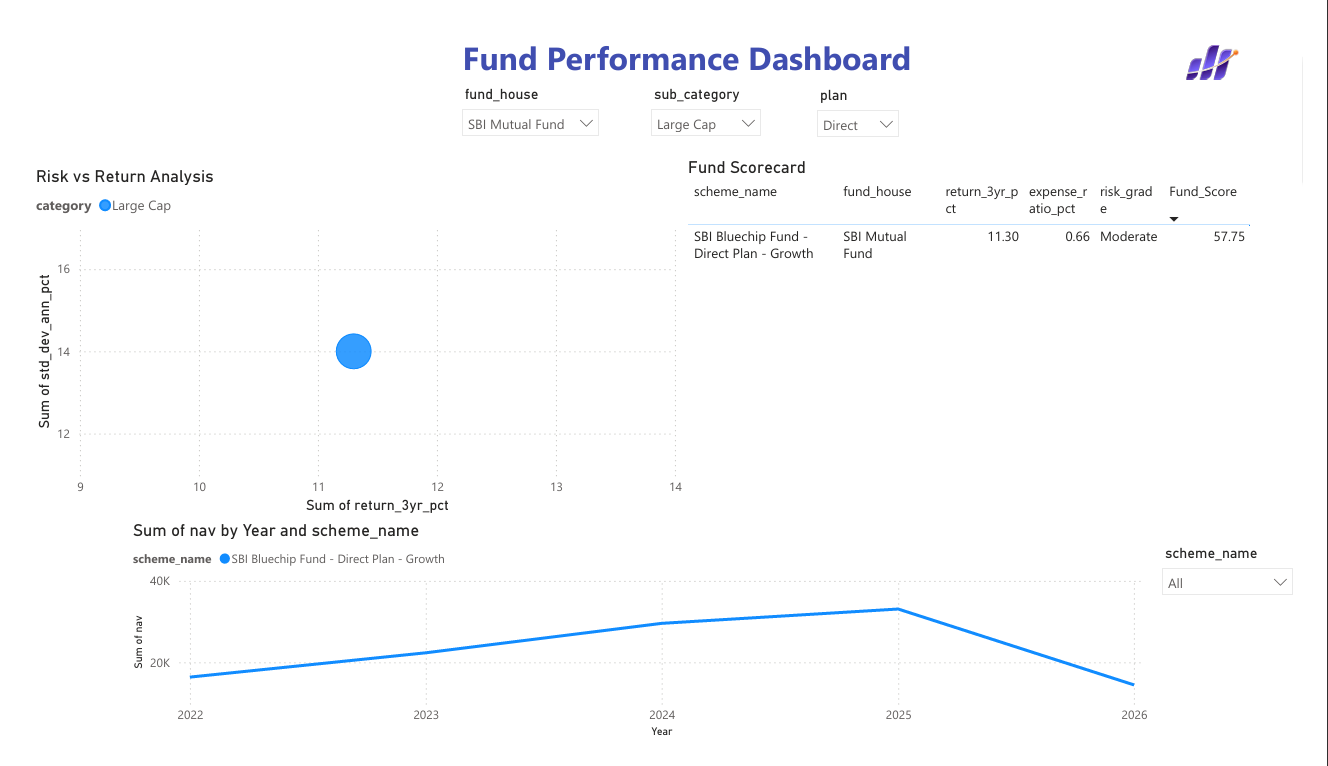

The dashboard page shown, as its layout file describes it:
{"tool":"powerbi","page":{"name":"Fund Performance","canvas":[1280,720],"ordinal":1},"visuals":[{"type":"textbox","box":[392,8,544,56],"z":0},{"type":"scatterChart","title":"Risk vs Return Analysis","fields":{"X":["Sum(07_scheme_performance_clean.return_3yr_pct)"],"Y":["Sum(07_scheme_performance_clean.std_dev_ann_pct)"],"Size":["Sum(07_scheme_performance_clean.aum_crore)"],"Series":["07_scheme_performance_clean.category"],"Category":["07_scheme_performance_clean.scheme_name"]},"box":[8,144,656,352],"z":1000},{"type":"tableEx","title":"Fund Scorecard","fields":{"Values":["07_scheme_performance_clean.scheme_name","07_scheme_performance_clean.fund_house","07_scheme_performance_clean.return_3yr_pct","07_scheme_performance_clean.expense_ratio_pct","07_scheme_performance_clean.risk_grade","fund_scorecard.Fund_Score"]},"box":[660.4,135.2,580.7,362.8],"z":2000},{"type":"lineChart","fields":{"Category":["02_nav_history_clean.date.Variation.Date Hierarchy.Year","02_nav_history_clean.date.Variation.Date Hierarchy.Quarter","02_nav_history_clean.date.Variation.Date Hierarchy.Month","02_nav_history_clean.date.Variation.Date Hierarchy.Day"],"Y":["Sum(02_nav_history_clean.nav)"],"Series":["01_fund_master_clean.scheme_name"]},"box":[105,498,1024.2,221.8],"z":3000},{"type":"slicer","fields":{"Values":["01_fund_master_clean.scheme_name"]},"box":[1129.2,518.4,150.8,72],"z":4000},{"type":"slicer","fields":{"Values":["01_fund_master_clean.fund_house"]},"box":[428.9,59.3,156.6,65.2],"z":5000},{"type":"slicer","fields":{"Values":["01_fund_master_clean.plan"]},"box":[784,60.3,102.1,60.3],"z":6000},{"type":"slicer","fields":{"Values":["01_fund_master_clean.sub_category"]},"box":[617.6,59.3,130.3,62.2],"z":7000},{"type":"image","box":[1152,16,64,48],"z":8000}]}

Visuals, with their boxes in screenshot pixels (x1, y1, x2, y2), scaled from the page's 1280x720 canvas onto the 1328x766 screenshot:
textbox: l=407, t=9, r=971, b=68
"Risk vs Return Analysis" scatterChart: l=8, t=153, r=689, b=528
"Fund Scorecard" tableEx: l=685, t=144, r=1288, b=530
lineChart - 02_nav_history_clean.date.Variation.Date Hierarchy.Year x 02_nav_history_clean.date.Variation.Date Hierarchy.Quarter: l=109, t=530, r=1172, b=765
slicer - 01_fund_master_clean.scheme_name: l=1172, t=552, r=1327, b=628
slicer - 01_fund_master_clean.fund_house: l=445, t=63, r=607, b=132
slicer - 01_fund_master_clean.plan: l=813, t=64, r=919, b=128
slicer - 01_fund_master_clean.sub_category: l=641, t=63, r=776, b=129
image: l=1195, t=17, r=1262, b=68
